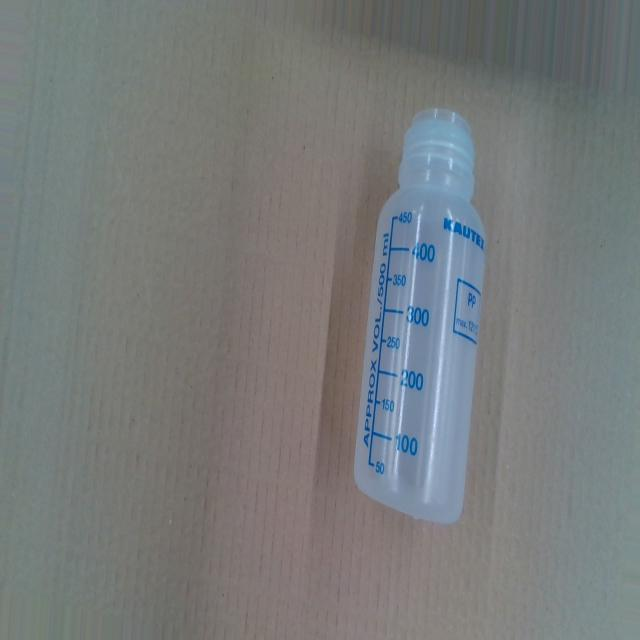bottle: (351, 104, 486, 525)
